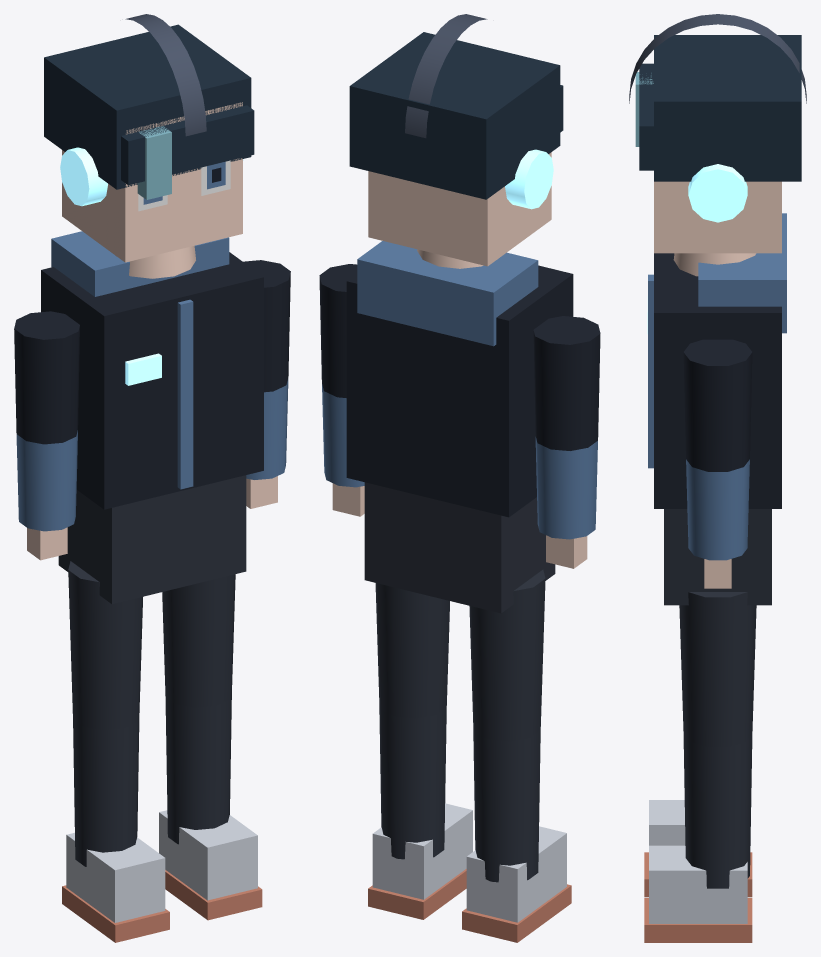
The model's file is OriginalAvatar.glb.
3 views of the same model, side by side, from view 1: azimuth 30°, elevation 25°; view 2: azimuth 150°, elevation 25°; view 3: azimuth 270°, elevation 25° (orthographic).
Visible parts, largest first — view 1: Spine, Head, Hips, LeftLeg, RightLeg, LeftUpLeg, RightUpLeg, LeftArm, LeftForeArm, RightArm, RightForeArm; view 2: Spine, Head, Hips, LeftLeg, RightLeg, LeftUpLeg, RightUpLeg, LeftArm, LeftForeArm, RightArm, RightForeArm; view 3: Head, Spine, RightLeg, RightUpLeg, RightArm, RightForeArm, Hips, LeftLeg.
Boxes of the visible parts, left/top/right/bottom form: Spine: left=41, top=231, right=263, bottom=509; Head: left=44, top=14, right=254, bottom=278; Hips: left=58, top=475, right=246, bottom=604; LeftLeg: left=62, top=714, right=169, bottom=942; RightLeg: left=159, top=691, right=262, bottom=920; LeftUpLeg: left=68, top=561, right=142, bottom=730; RightUpLeg: left=162, top=574, right=235, bottom=707; LeftArm: left=14, top=311, right=79, bottom=444; LeftForeArm: left=16, top=430, right=77, bottom=560; RightArm: left=243, top=260, right=290, bottom=392; RightForeArm: left=246, top=378, right=288, bottom=508; Spine: left=346, top=241, right=573, bottom=517; Head: left=349, top=14, right=563, bottom=268; Hips: left=364, top=482, right=555, bottom=613; LeftLeg: left=462, top=725, right=571, bottom=942; RightLeg: left=368, top=702, right=472, bottom=919; LeftUpLeg: left=469, top=569, right=545, bottom=741; RightUpLeg: left=375, top=583, right=449, bottom=718; LeftArm: left=533, top=316, right=600, bottom=450; LeftForeArm: left=535, top=437, right=597, bottom=568; RightArm: left=319, top=264, right=357, bottom=397; RightForeArm: left=322, top=384, right=364, bottom=516; Head: left=629, top=14, right=806, bottom=276; Spine: left=647, top=213, right=786, bottom=508; RightLeg: left=644, top=734, right=752, bottom=942; RightUpLeg: left=679, top=592, right=756, bottom=746; RightArm: left=683, top=339, right=752, bottom=471; RightForeArm: left=686, top=459, right=749, bottom=588; Hips: left=664, top=509, right=771, bottom=605; LeftLeg: left=644, top=800, right=752, bottom=897.
Bounding box in the file's own units: 0.6331 × 1.99 × 0.36.
